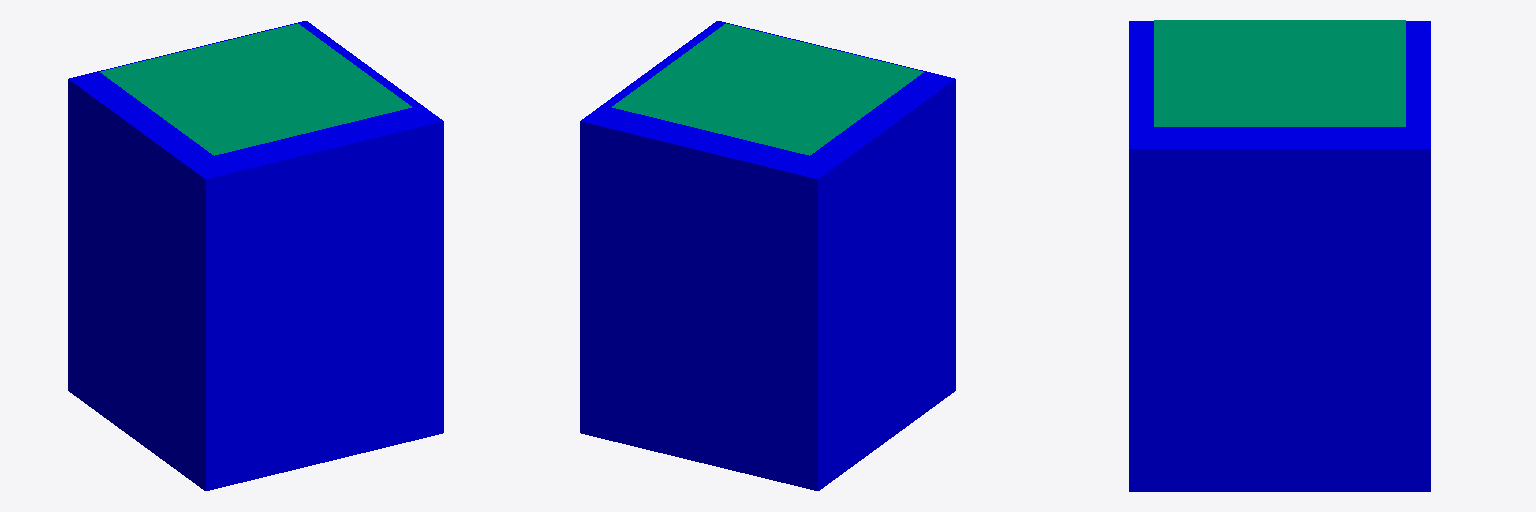
URDF robot description (box):
<?xml version="1.0"?>
<robot name="box">
<link name="base_footprint"/>
  <joint name="base_joint" type="fixed">
    <parent link="base_footprint"/>
    <child link="base_link"/>
    <origin xyz="0 0 0" rpy="0 0 0"/> <!-- -->
  </joint>


  <!-- Main chassis (box) -->
    <link name="base_link">
    <!-- Visual representation (what you see) -->
    <visual>
      <geometry>
        <box size="0.12 0.12 0.15"/>
      </geometry>
      <material name="blue">
        <color rgba="0.0 0.0 1.0 1.0"/>
      </material>
    </visual>

    <!-- Collision representation (for physics and obstacles) -->
    <collision>
      <geometry>
        <box size="0.12 0.12 0.15"/>
      </geometry>
    </collision>

    <!-- yet to be calculated -->
    <inertial>
      <mass value="1.0"/>
      <inertia ixx="0.024" ixy="0.0" ixz="0.0" iyy="0.086" iyz="0.0" izz="0.104"/>
    </inertial>
  </link>

   <!-- ArUco marker (overhead-camera localization ground truth) -->
  <link name="aruco_marker_link">
    <visual>
      <geometry>
        <mesh filename="package://cv_robot/materials/meshes/aruco4_marker.obj" scale="1 1 1"/>
      </geometry>
    </visual>
    <collision>
      <geometry>
        <box size="0.05 0.05 0.001"/>
      </geometry>
    </collision>
    <inertial>
      <mass value="0.001"/>
      <inertia ixx="2.1e-7" ixy="0" ixz="0" iyy="2.1e-7" iyz="0" izz="4.1e-7"/>
    </inertial>
  </link>
  <joint name="aruco_marker_joint" type="fixed">
    <parent link="base_link"/>
    <child link="aruco_marker_link"/>
    <origin xyz="0.0 0.0 0.08" rpy="0 0 0"/>
  </joint>
  </robot>
  

--- Facts derived from the render (not from the file) ---
The picture shows the robot from 3 angles, left to right: view 1: azimuth 30°, elevation 25°; view 2: azimuth 150°, elevation 25°; view 3: azimuth 270°, elevation 25°; orthographic projection.
Model box with 3 links and 2 joints (2 fixed), rooted at base_footprint, posed every joint at zero.
Links seen in each view (by area): view 1: base_link, aruco_marker_link; view 2: base_link, aruco_marker_link; view 3: base_link, aruco_marker_link.
Link boxes in pixels (bbox=[...]): base_link: bbox=[68, 21, 443, 490]; aruco_marker_link: bbox=[100, 23, 411, 155]; base_link: bbox=[580, 21, 955, 490]; aruco_marker_link: bbox=[612, 23, 923, 155]; base_link: bbox=[1129, 21, 1430, 491]; aruco_marker_link: bbox=[1154, 20, 1405, 126].
Size in the robot's own frame: 0.12 by 0.12 by 0.155 metres.
Meshes: 1 distinct files referenced, 1 mesh visuals loaded (1 OBJ).
